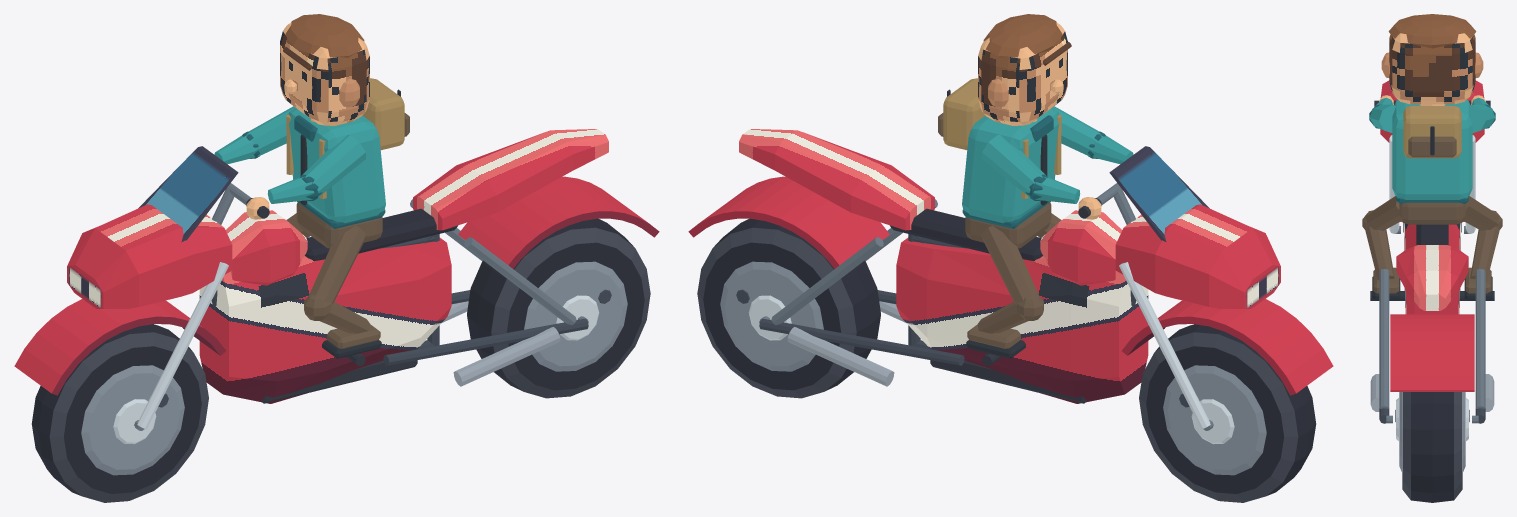
3 views of the same model, side by side, from view 1: azimuth 30°, elevation 25°; view 2: azimuth 150°, elevation 25°; view 3: azimuth 270°, elevation 25° (orthographic). The views are drawn at different scales.
Visible parts, largest first — view 1: Body_static, RiderExplorer:Explorer_static_seated, Wheel_F_tire_hub, Wheel_R_tire_hub; view 2: Body_static, RiderExplorer:Explorer_static_seated, Wheel_F_tire_hub, Wheel_R_tire_hub; view 3: RiderExplorer:Explorer_static_seated, Body_static, Wheel_R_tire_hub.
Boxes of the visible parts, left/top/right/bottom form: Body_static: left=14, top=129, right=659, bottom=430; RiderExplorer:Explorer_static_seated: left=214, top=14, right=409, bottom=358; Wheel_F_tire_hub: left=31, top=324, right=208, bottom=502; Wheel_R_tire_hub: left=467, top=218, right=650, bottom=398; Body_static: left=688, top=129, right=1333, bottom=430; RiderExplorer:Explorer_static_seated: left=938, top=14, right=1133, bottom=358; Wheel_F_tire_hub: left=1139, top=324, right=1316, bottom=502; Wheel_R_tire_hub: left=697, top=218, right=880, bottom=398; RiderExplorer:Explorer_static_seated: left=1362, top=14, right=1502, bottom=300; Body_static: left=1370, top=80, right=1494, bottom=423; Wheel_R_tire_hub: left=1395, top=392, right=1469, bottom=502.
Bounding box in the file's own units: 54.03 × 35.91 × 12.17.
2 materials, 2 textured.
